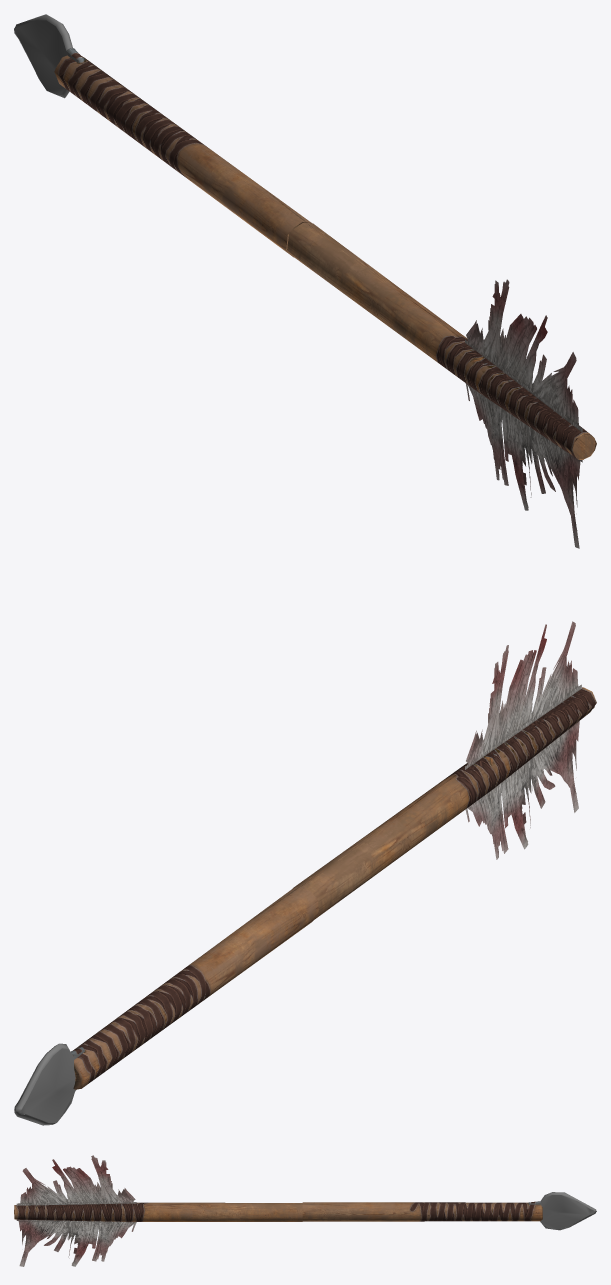
Rendered from special_2.fbx.
3 views of the same model, one above another, from view 1: azimuth 30°, elevation 25°; view 2: azimuth 150°, elevation 25°; view 3: azimuth 270°, elevation 25° (orthographic). The views are drawn at different scales.
Visible parts, largest first — view 1: arrow; view 2: arrow; view 3: arrow.
Part boxes in pixels (x1=…): arrow: x1=14, y1=14, x2=596, y2=548; arrow: x1=14, y1=621, x2=596, y2=1125; arrow: x1=14, y1=1155, x2=596, y2=1266.
Bounding box in the file's own units: 2.63 × 16.76 × 76.13.
